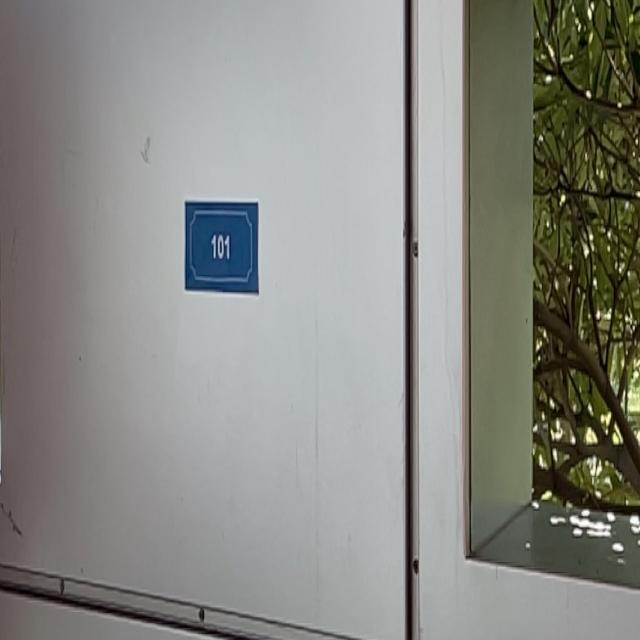Card: (180, 179, 264, 321)
